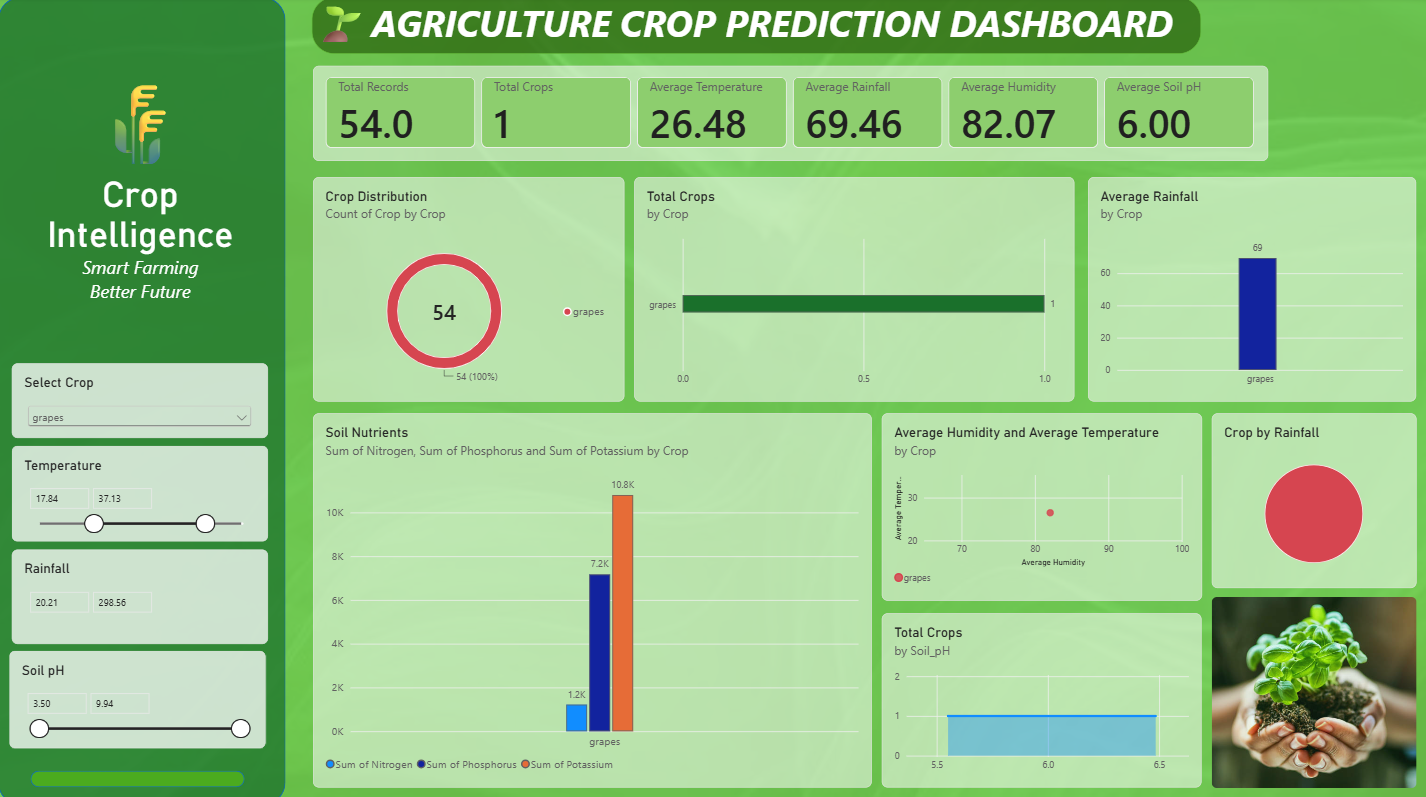

What the dashboard file says about the page in this screenshot:
{"tool":"powerbi","page":{"name":"Page 1","canvas":[1920,1080],"ordinal":0},"visuals":[{"type":"shape","box":[0,0,384,1080],"z":0},{"type":"textbox","box":[419.8,0,1187.7,76.2],"z":1000},{"type":"cardVisual","fields":{"Data":["Crop_Data.Total Records","Crop_Data.Total Crops","Crop_Data.Average Temperature","Crop_Data.Average Rainfall","Crop_Data.Average Humidity","Crop_Data.Average Soil pH"]},"box":[420,91.4,1275.7,127.1],"z":2000},{"type":"donutChart","title":"Crop Distribution","fields":{"Category":["Crop_Data.Crop"],"Y":["CountNonNull(Crop_Data.Crop)"]},"box":[420,240,416,300],"z":3000},{"type":"clusteredBarChart","fields":{"Category":["Crop_Data.Crop"],"Y":["Crop_Data.Total Crops"]},"box":[850,240,588,300],"z":4000},{"type":"clusteredColumnChart","title":"Soil Nutrients","fields":{"Category":["Crop_Data.Crop"],"Y":["Sum(Crop_Data.Nitrogen)","Sum(Crop_Data.Phosphorus)","Sum(Crop_Data.Potassium)"]},"box":[420,556,746,500],"z":5000},{"type":"clusteredColumnChart","fields":{"Category":["Crop_Data.Crop"],"Y":["Crop_Data.Average Rainfall"]},"box":[1456,240,438,300],"z":6000},{"type":"scatterChart","fields":{"Series":["Crop_Data.Crop"],"X":["Crop_Data.Average Humidity"],"Y":["Crop_Data.Average Temperature"]},"box":[1180,556,428,250],"z":7000},{"type":"stackedAreaChart","fields":{"Category":["Crop_Data.Soil_pH"],"Y":["Crop_Data.Total Crops"]},"box":[1180,823.8,427.5,232.5],"z":8000},{"type":"slicer","title":"Select Crop","fields":{"Values":["Crop_Data.Crop"]},"box":[18,490,342,100],"z":9000},{"type":"slicer","title":"Temperature","fields":{"Values":["Crop_Data.Temperature"]},"box":[17.8,600,342,128],"z":10000},{"type":"slicer","title":"Rainfall","fields":{"Values":["Crop_Data.Rainfall"]},"box":[17.8,737.8,342.2,126.7],"z":11000},{"type":"slicer","title":"Soil pH","fields":{"Values":["Crop_Data.Soil_pH"]},"box":[15.6,873.3,342.2,130],"z":12000},{"type":"shape","box":[43.8,1033.8,286,22],"z":13000},{"type":"pieChart","title":"Crop by Rainfall","fields":{"Category":["Crop_Data.Crop"],"Series":["Crop_Data.Crop"],"Y":["Sum(Crop_Data.Rainfall)"]},"box":[1621.5,555.6,273.3,233.4],"z":14000},{"type":"image","box":[1621.5,801.7,273.3,255.2],"z":14002},{"type":"textbox","box":[100,100,300,300],"z":14003},{"type":"textbox","box":[30.8,94.1,320.3,363.7],"z":14004}]}

Visuals, with their boxes in screenshot pixels (x1, y1, x2, y2), scaled from the page's 1920x1080 canvas onto the 1426x797 screenshot:
shape: 0,0,285,796
textbox: 312,0,1194,56
cardVisual - Crop_Data.Total Records x Crop_Data.Total Crops: 312,67,1259,161
"Crop Distribution" donutChart: 312,177,621,398
clusteredBarChart - Crop_Data.Crop x Crop_Data.Total Crops: 631,177,1068,398
"Soil Nutrients" clusteredColumnChart: 312,410,866,779
clusteredColumnChart - Crop_Data.Crop x Crop_Data.Average Rainfall: 1081,177,1407,398
scatterChart - Crop_Data.Crop x Crop_Data.Average Humidity: 876,410,1194,595
stackedAreaChart - Crop_Data.Soil_pH x Crop_Data.Total Crops: 876,608,1194,780
"Select Crop" slicer: 13,362,267,435
"Temperature" slicer: 13,443,267,537
"Rainfall" slicer: 13,544,267,638
"Soil pH" slicer: 12,644,266,740
shape: 33,763,245,779
"Crop by Rainfall" pieChart: 1204,410,1407,582
image: 1204,592,1407,780
textbox: 74,74,297,295
textbox: 23,69,261,338
